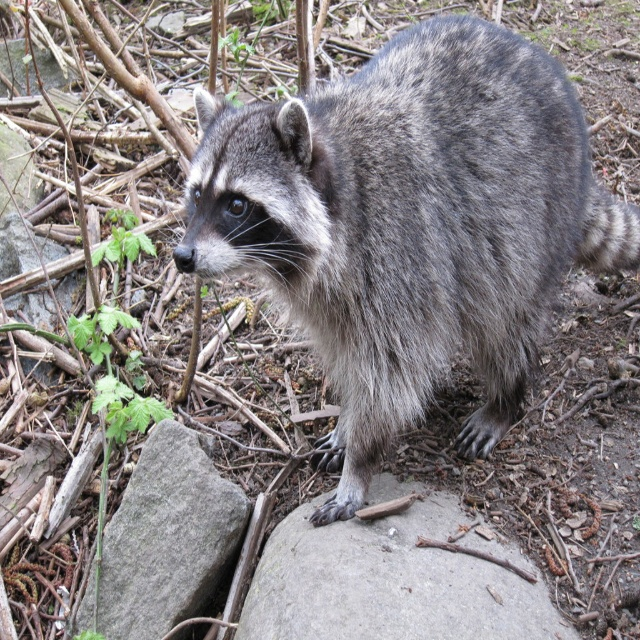Raccoon: (152, 10, 640, 528)
